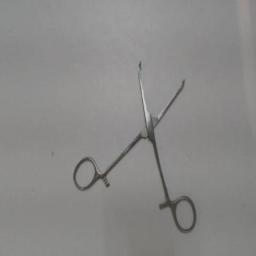Allis Tissue Forceps: (68, 54, 202, 238)
